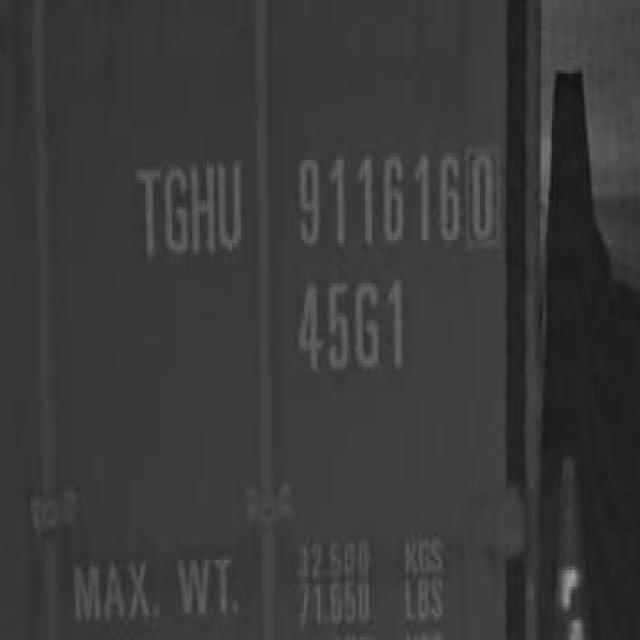dv: (464, 133, 509, 253)
owner: (130, 132, 245, 276)
serial: (287, 133, 461, 256)
size: (290, 271, 411, 388)
